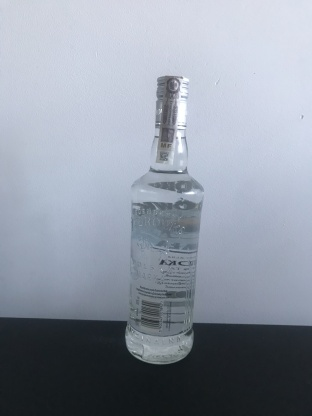nakretka: (152, 71, 192, 133)
